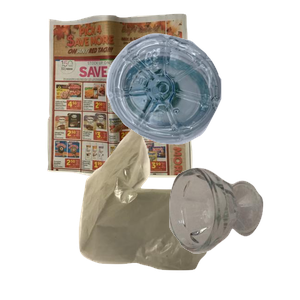glass: (166, 165, 300, 300)
paper: (44, 11, 229, 181)
plastic: (104, 31, 300, 168)
trash: (76, 124, 287, 300)
